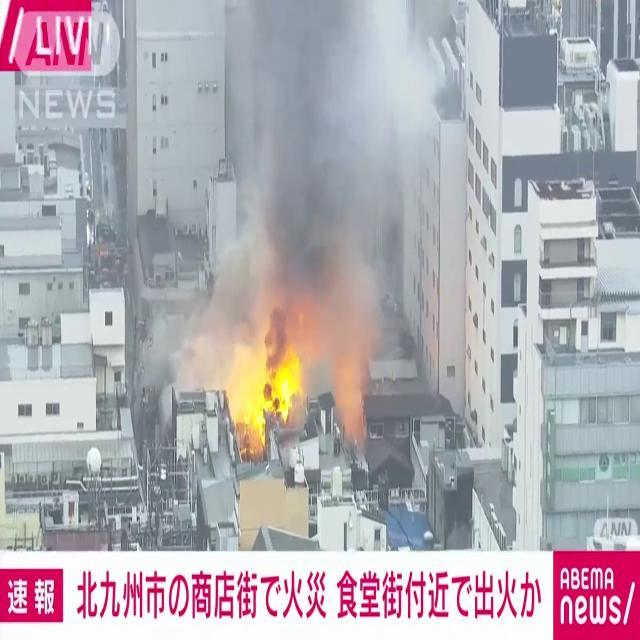Fire: (224, 326, 305, 446)
Smoke: (217, 1, 443, 354)
